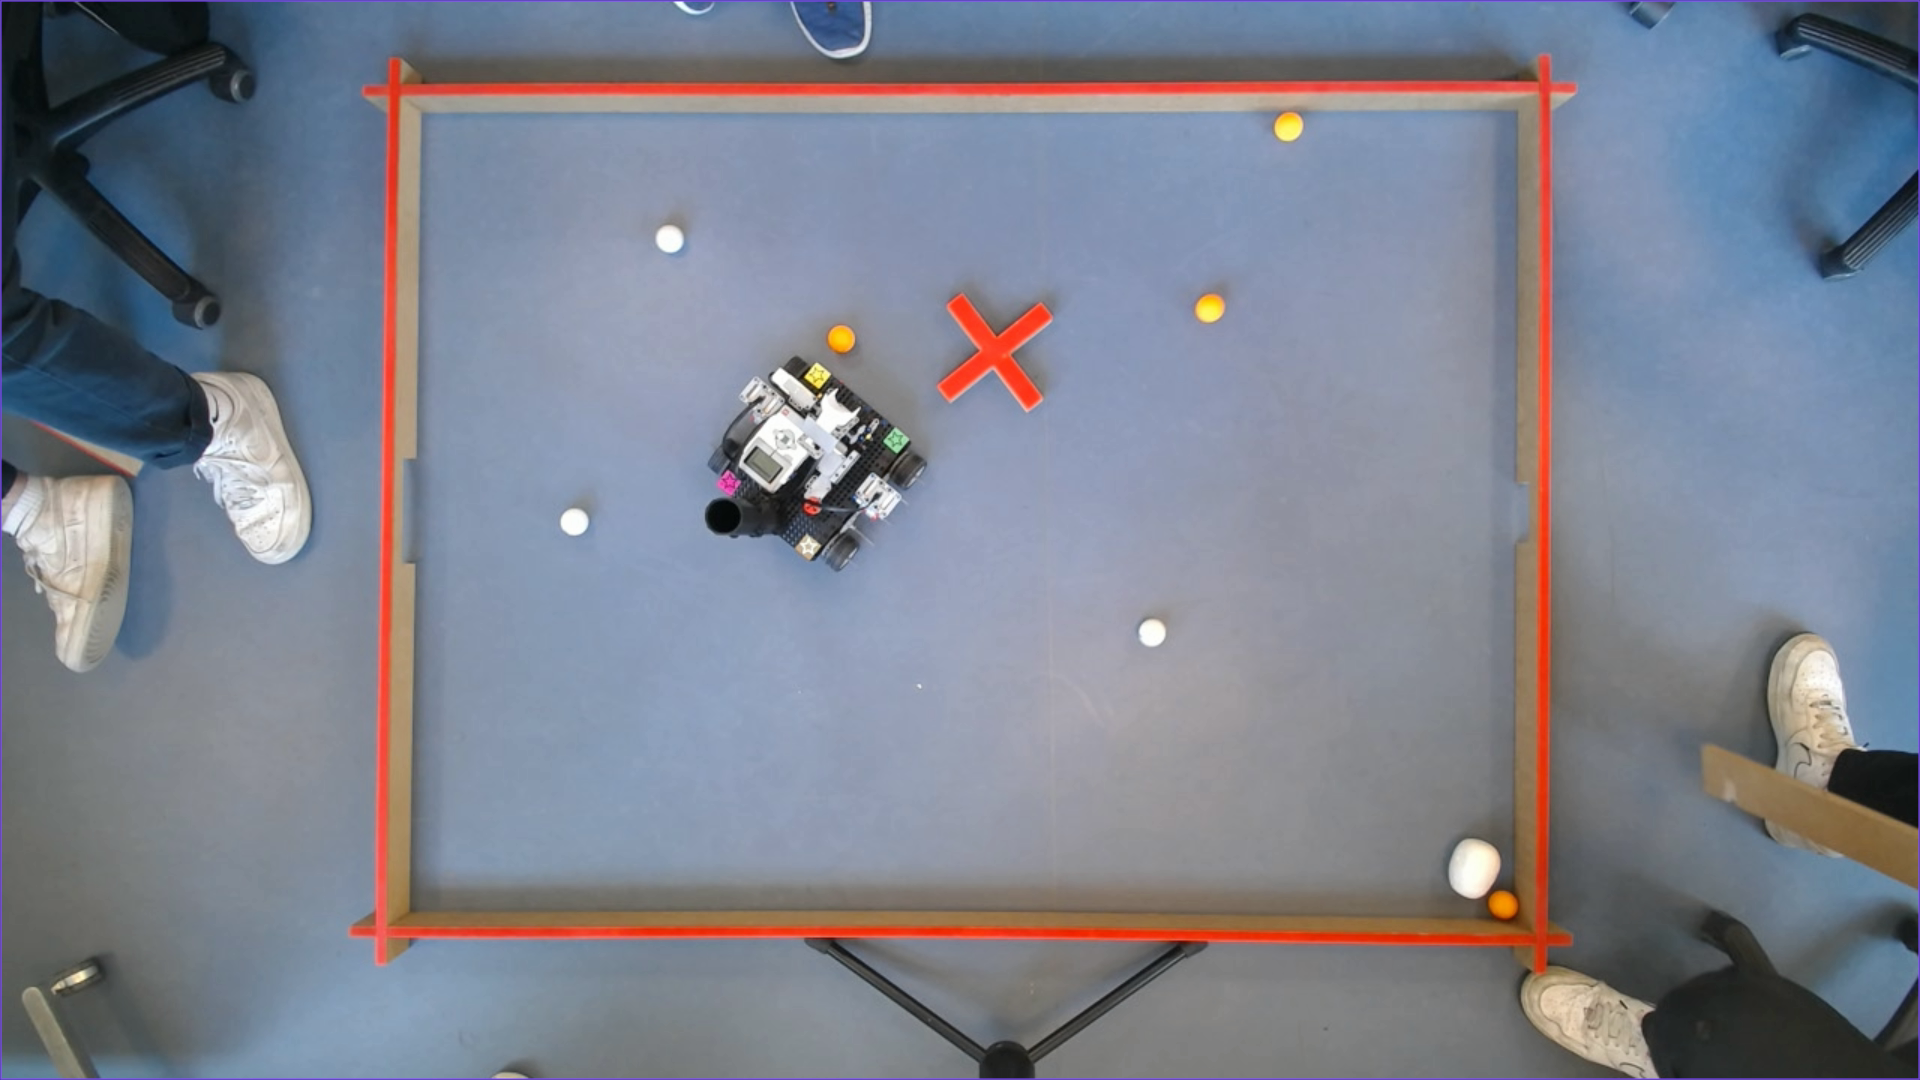ball_orange: (1276, 109, 1304, 141), (1490, 889, 1518, 916), (1197, 291, 1222, 322)
ball_white: (1137, 617, 1167, 642), (655, 222, 680, 251), (556, 509, 588, 531)
corner_brown: (796, 531, 818, 555)
corner_green: (885, 427, 907, 451)
corner_pink: (719, 469, 737, 491)
corner_yellow: (804, 361, 828, 385)
cross: (935, 294, 1058, 411)
egg: (1445, 835, 1501, 901)
playfield: (364, 76, 1565, 957)
